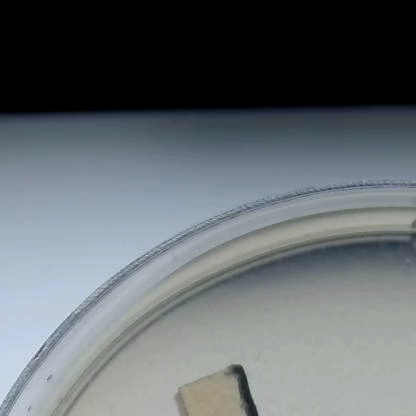worm: (252, 346, 270, 365)
